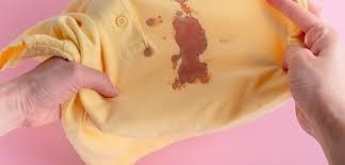blood: (174, 18, 210, 85)
